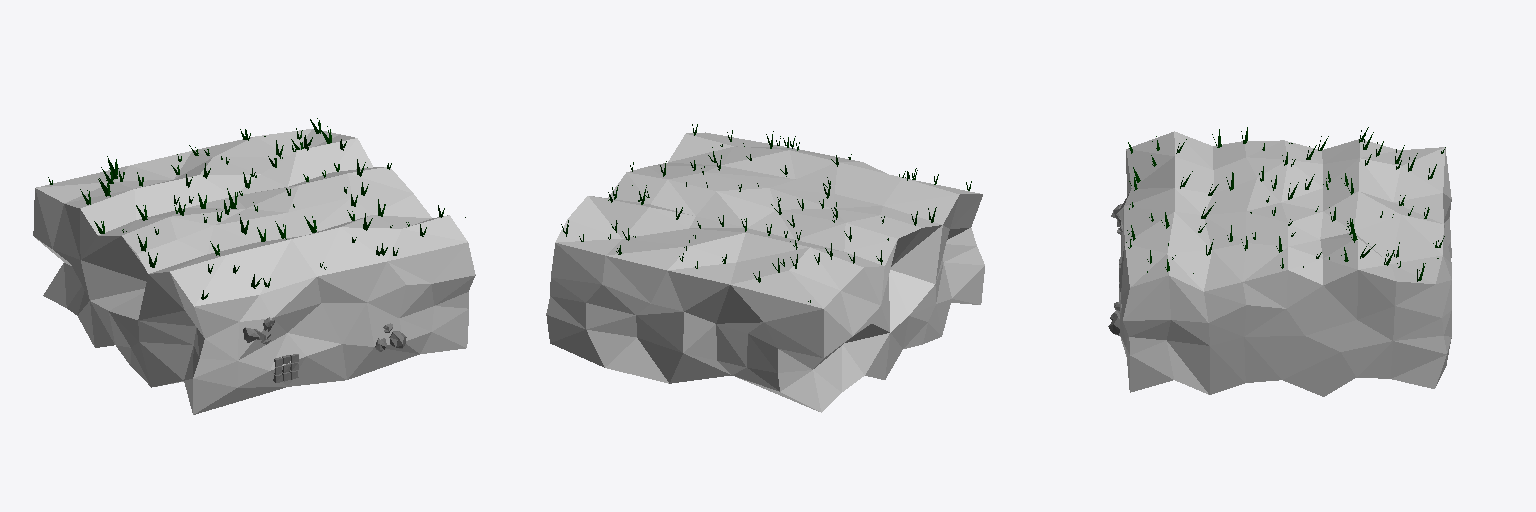
Rendered from ground.obj.
3 renders of one model, left to right at view 1: azimuth 30°, elevation 25°; view 2: azimuth 150°, elevation 25°; view 3: azimuth 270°, elevation 25°, orthographic.
Parts seen in each view (by area): view 1: Cube_Cube.001, Cube.009_Cube.010; view 2: Cube_Cube.001; view 3: Cube_Cube.001.
Boxes of the visible parts, x1,y1,x2,y2 form: Cube_Cube.001: [33, 129, 475, 414]; Cube.009_Cube.010: [273, 354, 298, 382]; Cube_Cube.001: [546, 132, 984, 412]; Cube_Cube.001: [1118, 131, 1451, 396].
Bounding box in the file's own units: 6.92 × 3.53 × 7.13.